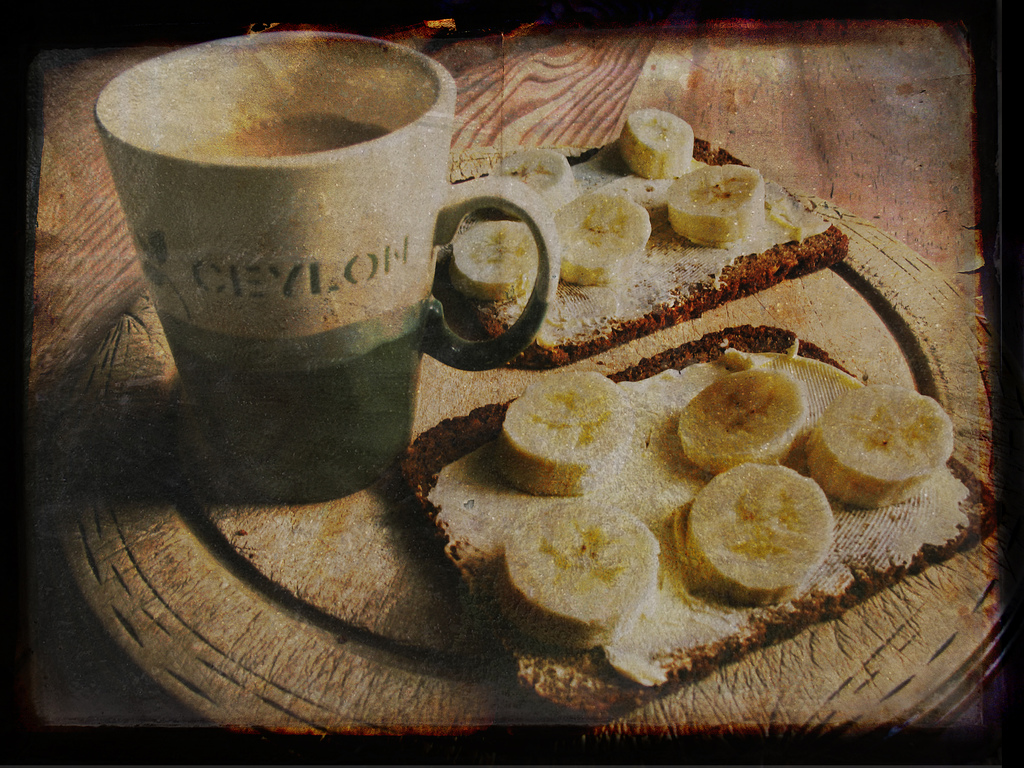slice of bread: (365, 355, 952, 679)
